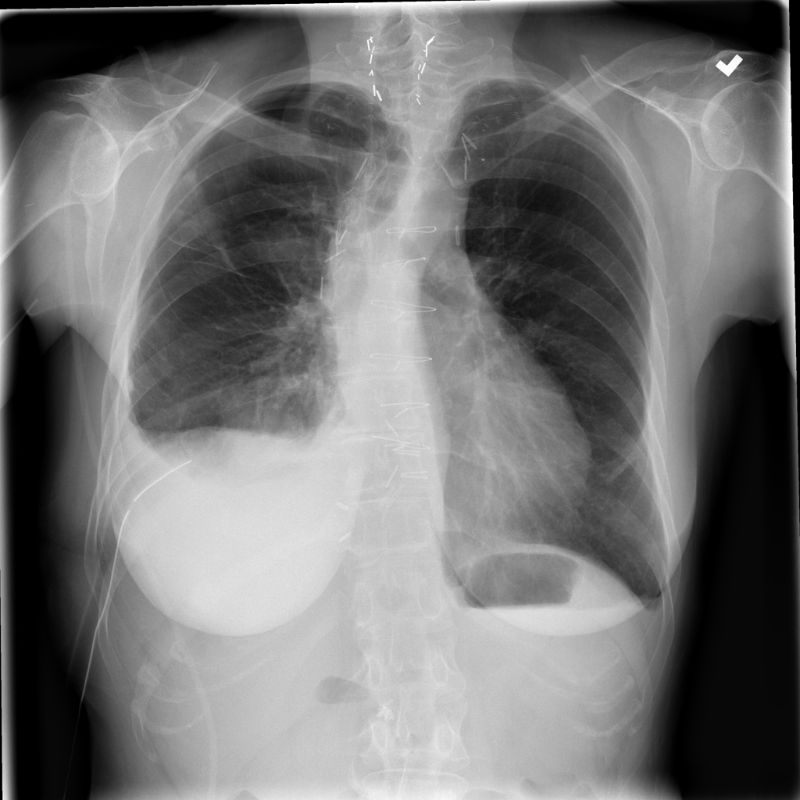PLEURAL EFFUSION: (91, 406, 253, 649)
